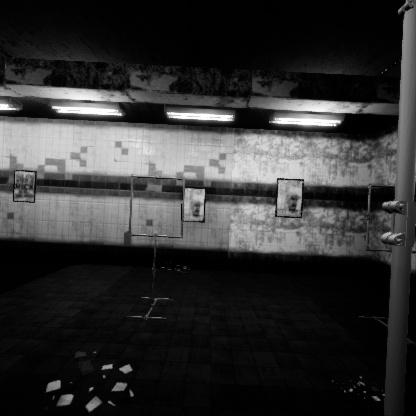gate: (128, 176, 191, 241), (366, 161, 416, 232)
